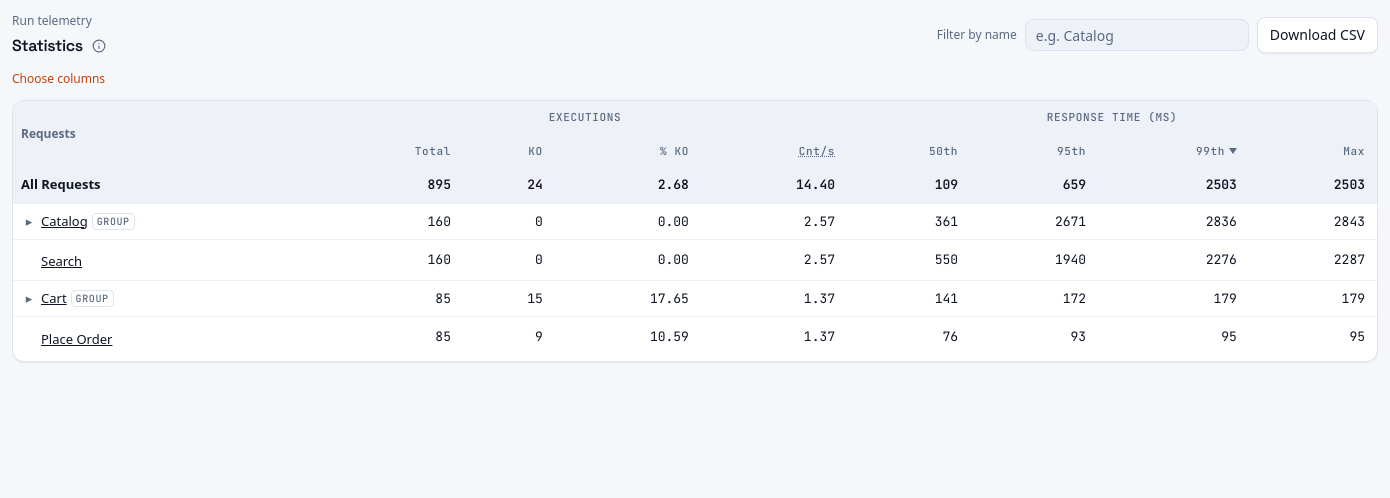
Test case: StatisticsTable — expand and collapse (G-13, §9 checkpoint 4) › collapses again, and says which it will do
Step 1. Click the button named "expand Catalog" → (29, 221), box 21,212 -> 37,231
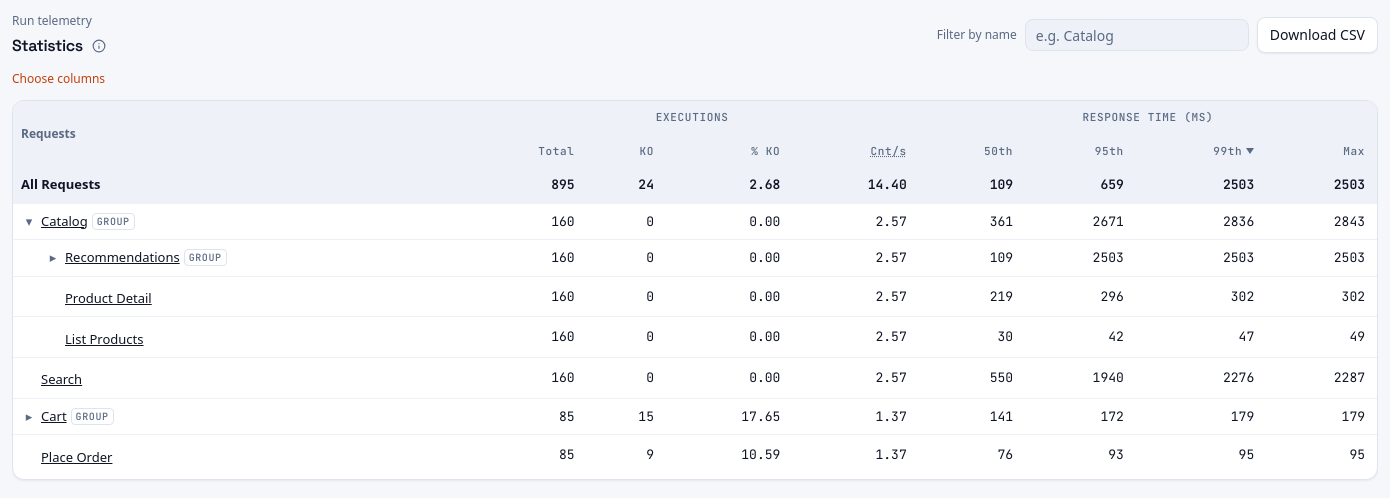
Check: the button named "collapse Catalog" is expanded
Step 2. Click the button named "collapse Catalog" → (29, 221), box 21,212 -> 37,231
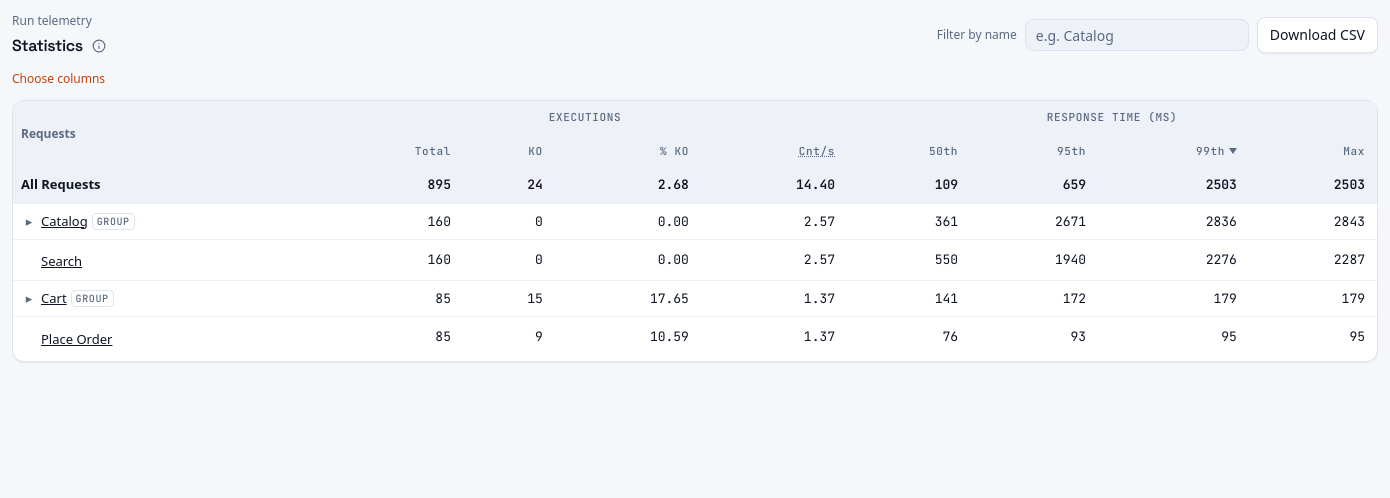
Check: the button named "expand Catalog" is collapsed, box 21,212 -> 37,231
